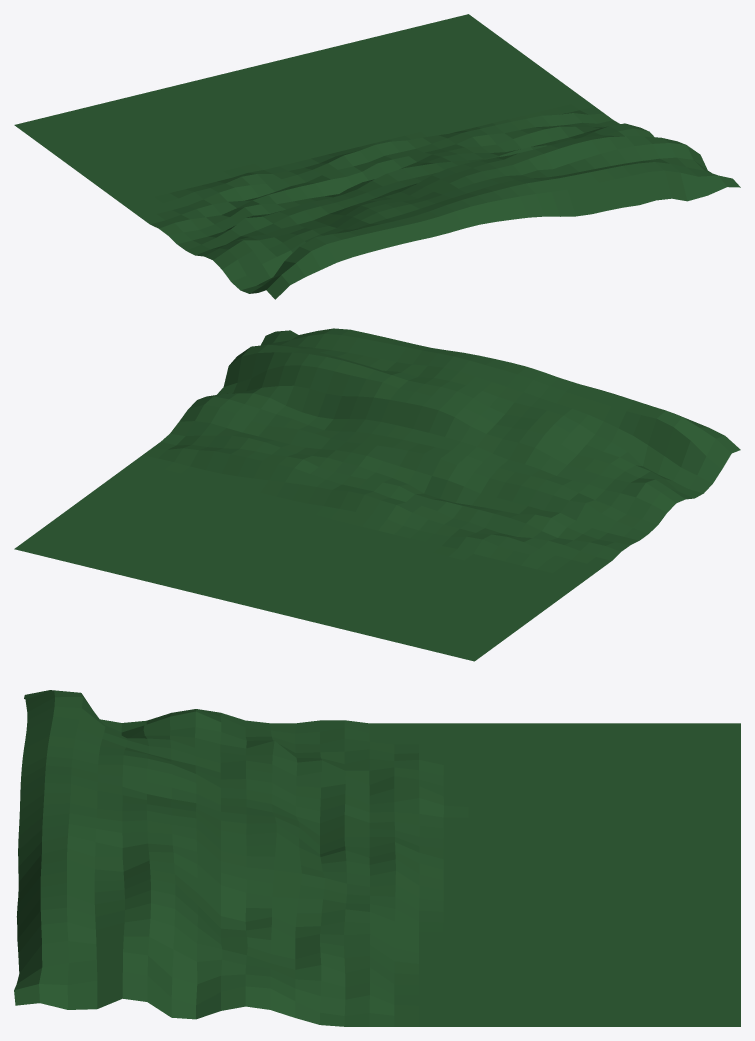
File: terrain.fbx
The picture shows the model from 3 angles, top to bottom: view 1: azimuth 30°, elevation 25°; view 2: azimuth 150°, elevation 25°; view 3: azimuth 270°, elevation 25°; orthographic projection. The views are drawn at different scales.
Visible parts, largest first — view 1: Terrain; view 2: Terrain; view 3: Terrain.
Boxes of the visible parts, bbox=[...] form: Terrain: bbox=[14, 14, 740, 299]; Terrain: bbox=[14, 328, 740, 661]; Terrain: bbox=[14, 690, 740, 1026].
Size of what is drawn, in the model's own units: 61.14 by 7.11 by 60.73.
